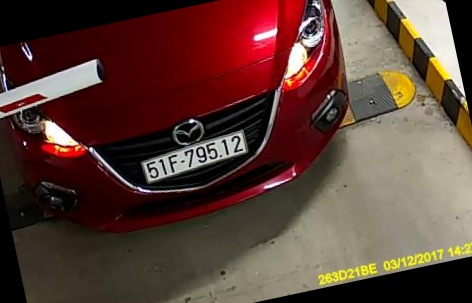plate: (137, 131, 250, 194)
